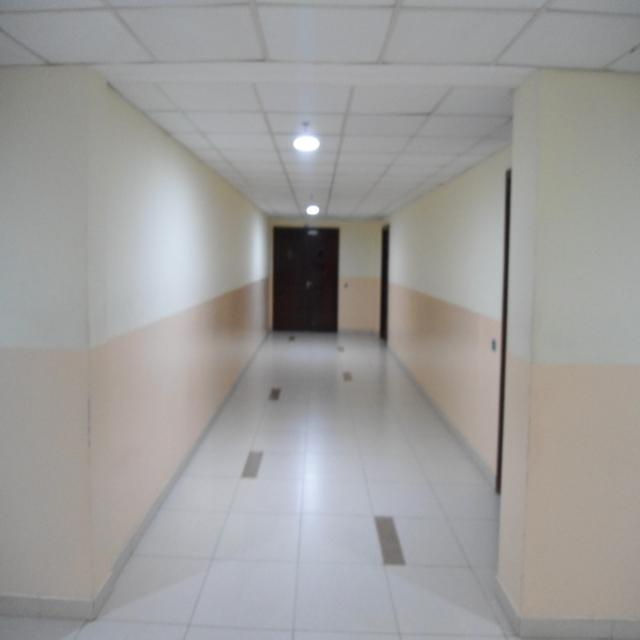door: (493, 166, 516, 499), (273, 227, 339, 332), (382, 226, 389, 343)
wall: (0, 66, 271, 614), (498, 70, 640, 635), (388, 147, 511, 485)
